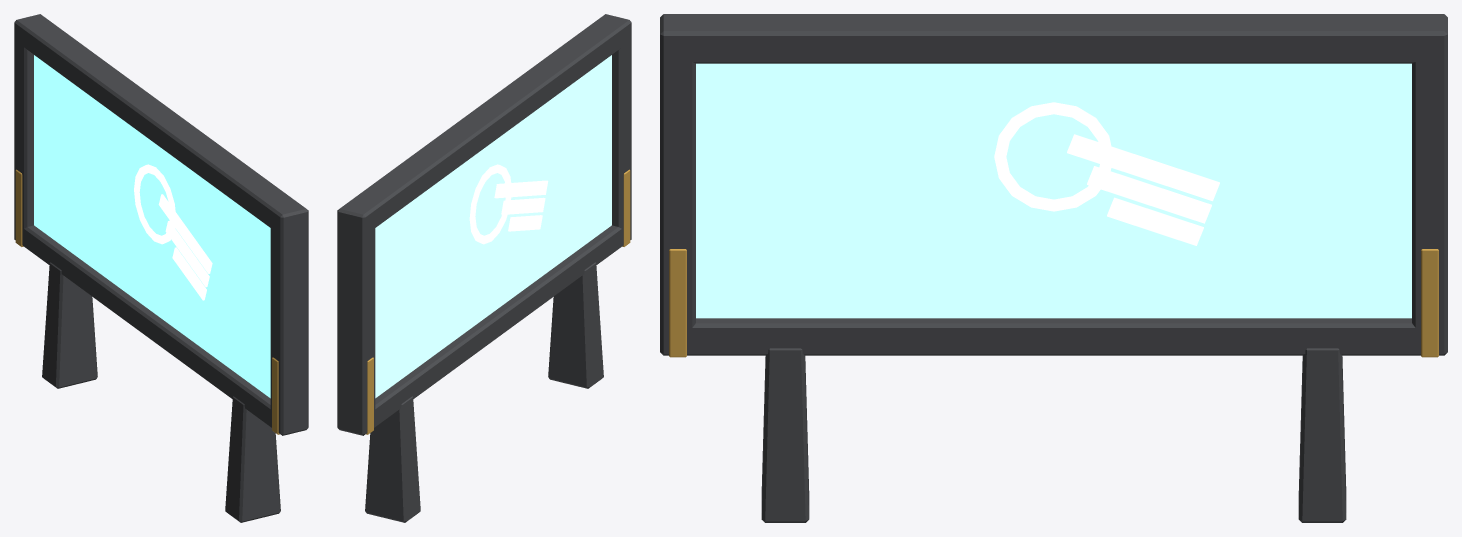
File: heatsinkHoloBillboard.d3d7edc7.glb
3 renders of one model, left to right at view 1: azimuth 30°, elevation 25°; view 2: azimuth 150°, elevation 25°; view 3: azimuth 270°, elevation 25°, orthographic. The views are drawn at different scales.
Visible parts, largest first — view 1: holo_billboard; view 2: holo_billboard; view 3: holo_billboard.
Part boxes in pixels (box(x1,y1,x2,y2)): holo_billboard: box(14, 14, 308, 522); holo_billboard: box(337, 14, 631, 522); holo_billboard: box(660, 14, 1447, 522).
Bounding box in the file's own units: 1.19 × 9 × 13.2.
